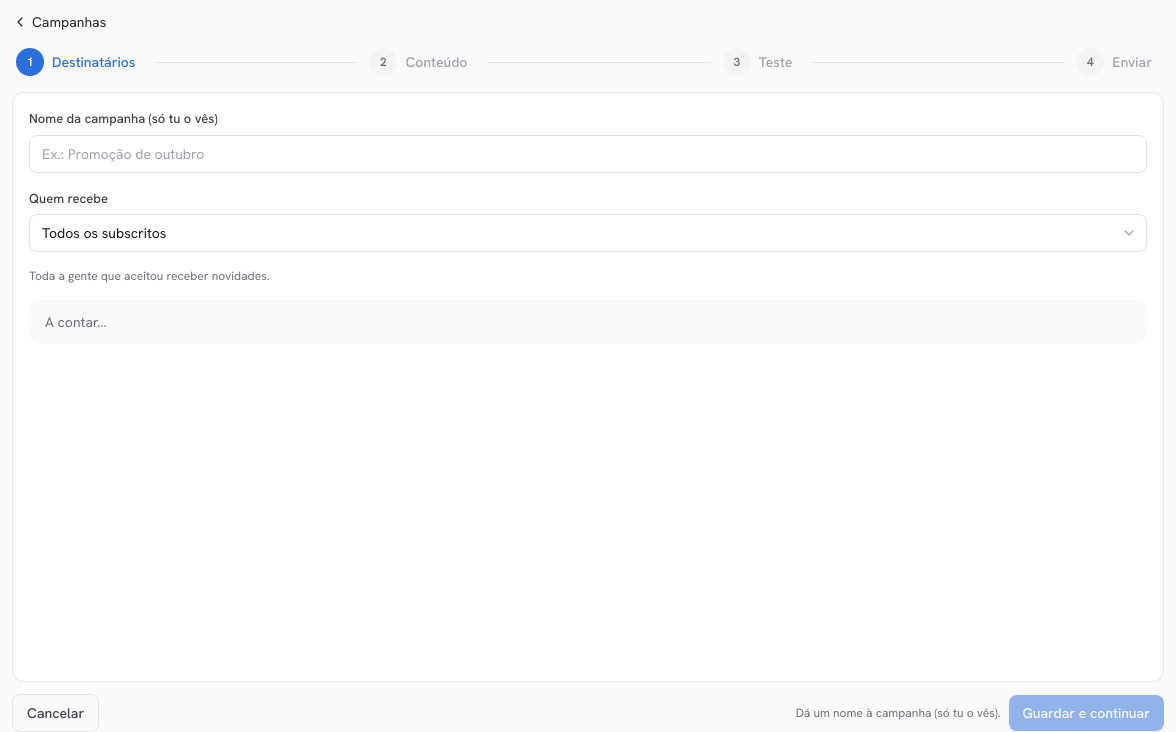
it: Nova campanha — passo 1, destinatários › sem nome não avança; com nome cria o rascunho e passa ao passo 2
Check: the button with test id "campaign-next" is disabled, box [1008,695,1164,731]
Type "Outubro" into the field labelled "Nome da campanha (só tu o vês)" at (588, 154), box [29,134,1147,172]
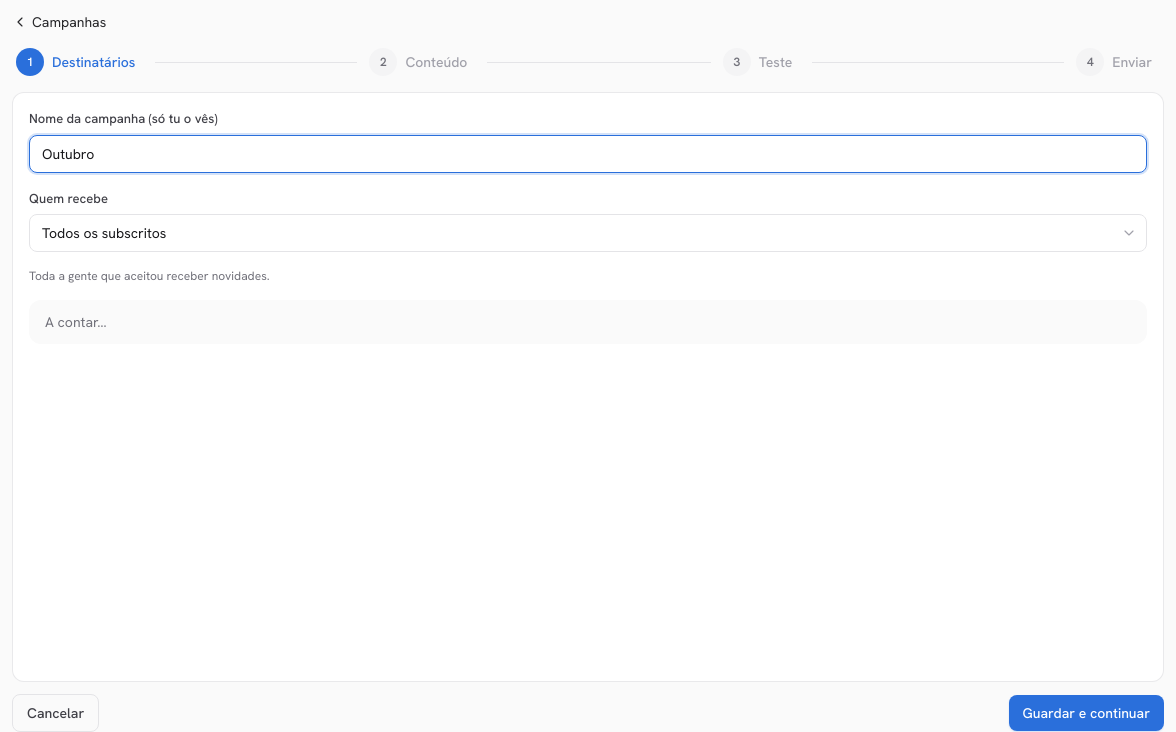
Click the button with test id "campaign-next" at (1086, 713), box [1008,695,1164,731]
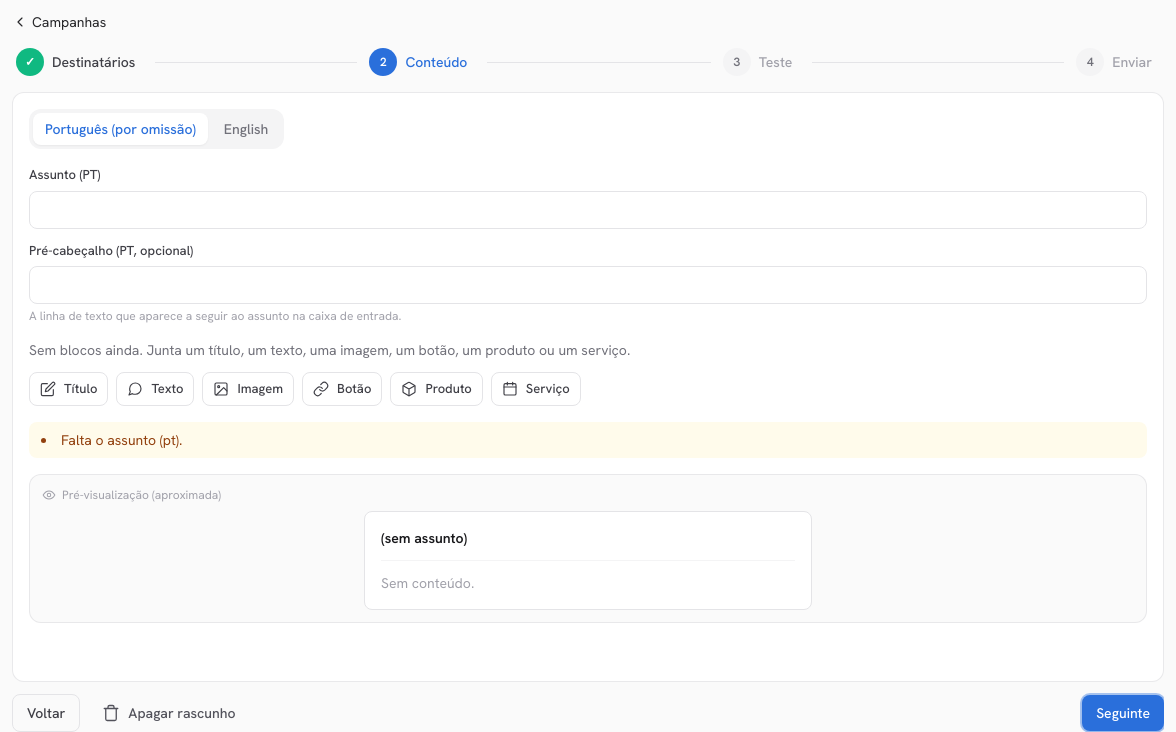
Check: the element with test id "campaign-step-body-conteudo" is shown
